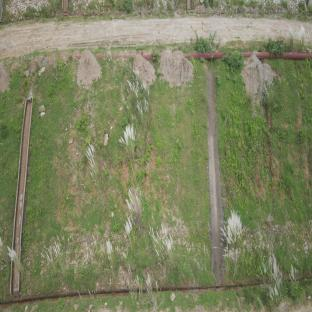rock_toe: (63, 232, 136, 273), (241, 223, 310, 254)
slope_drain: (8, 97, 33, 293), (205, 65, 227, 284)
toe_drain: (0, 271, 312, 308)
